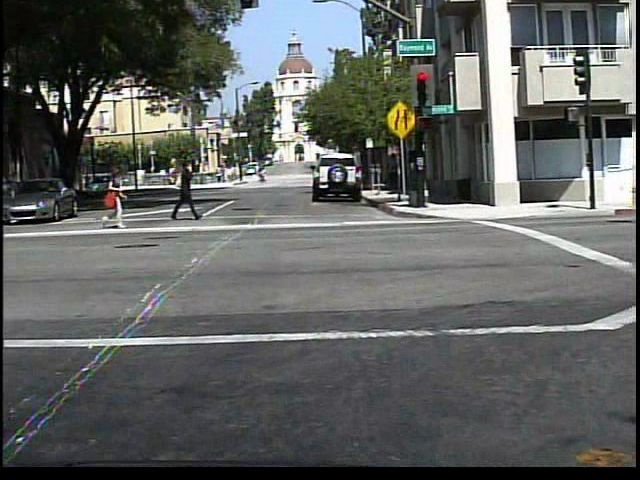person: (163, 158, 201, 223), (95, 162, 129, 231), (261, 167, 262, 184), (259, 168, 260, 185)
